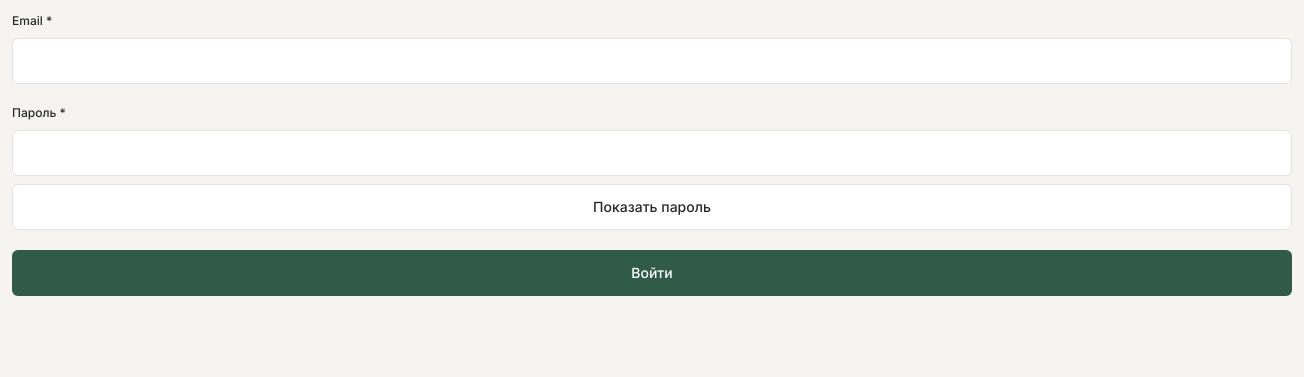
Test: login form › shows/hides password by keyboard and clears it after a failed attempt
Type "employee@example.test" into the field labelled "Email *" at (652, 61), box [12,38,1292,84]
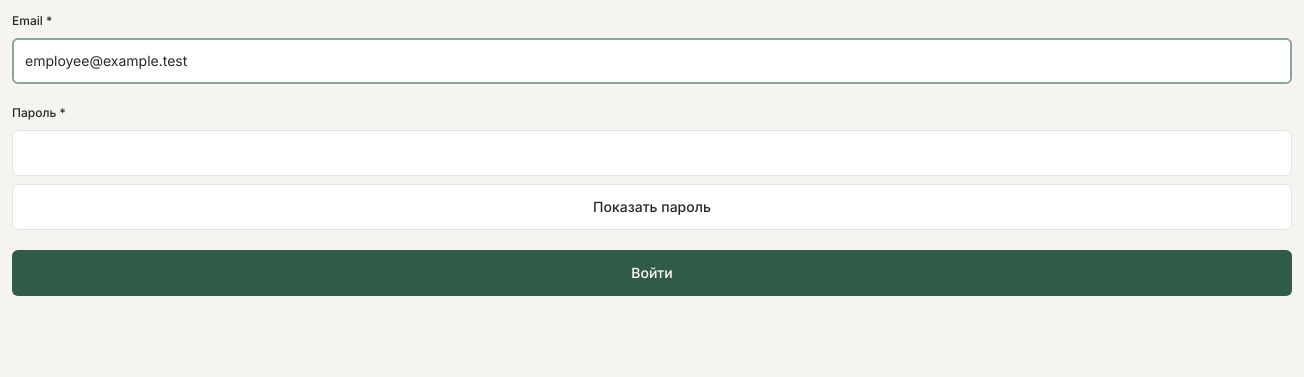
Type "test-secret" into the password field labelled "Пароль *" at (652, 153), box [12,130,1292,176]
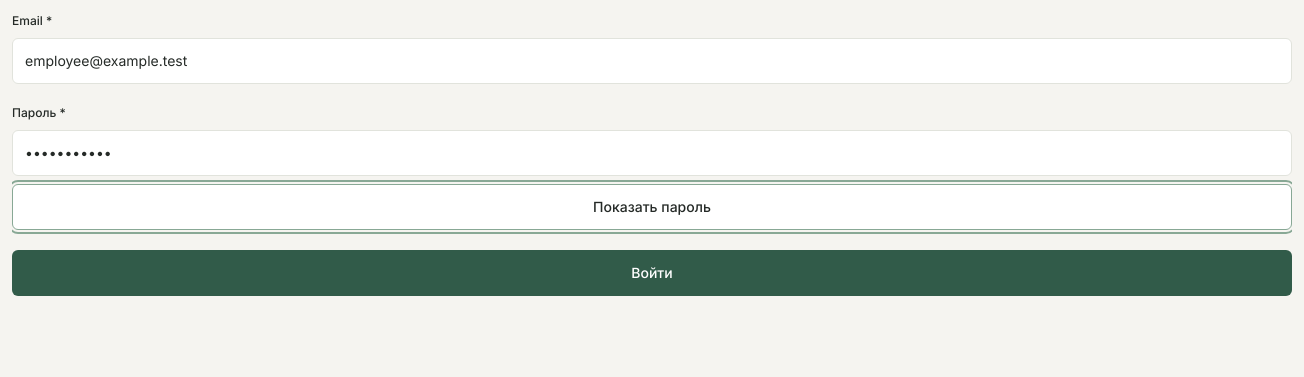
Type keys " "
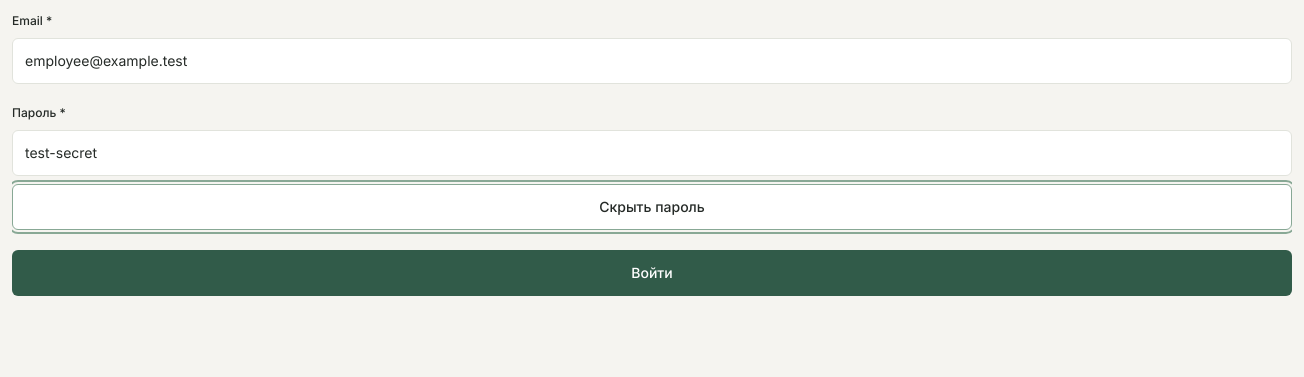
Result: the field labelled "Пароль *" shows its text at [12,130,1292,176]
Click the button "Войти" at (652, 273), box [12,250,1292,296]
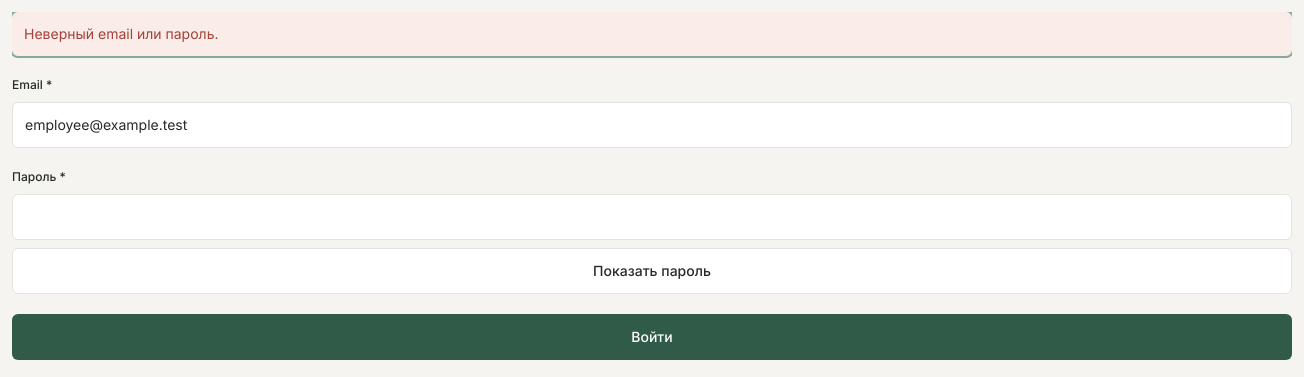
Result: the text "Неверный email или пароль." is shown at [12,12,1292,56]
Result: the password field labelled "Пароль *" is empty at [12,194,1292,240]
